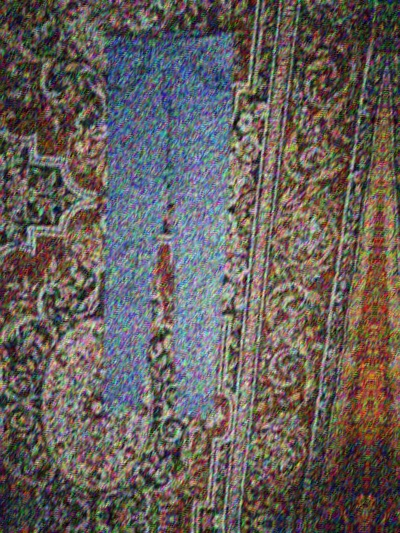Pants: (73, 0, 279, 410)
